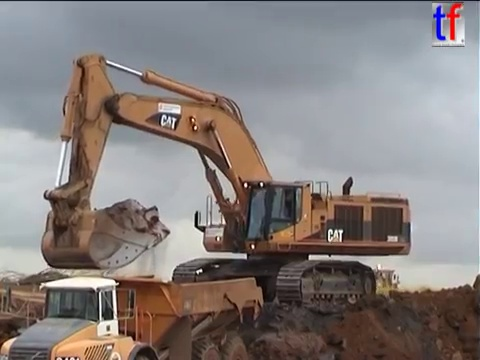excavator: (37, 51, 415, 318)
motor grader: (346, 262, 406, 303)
truck: (1, 272, 266, 360), (470, 271, 480, 295)
